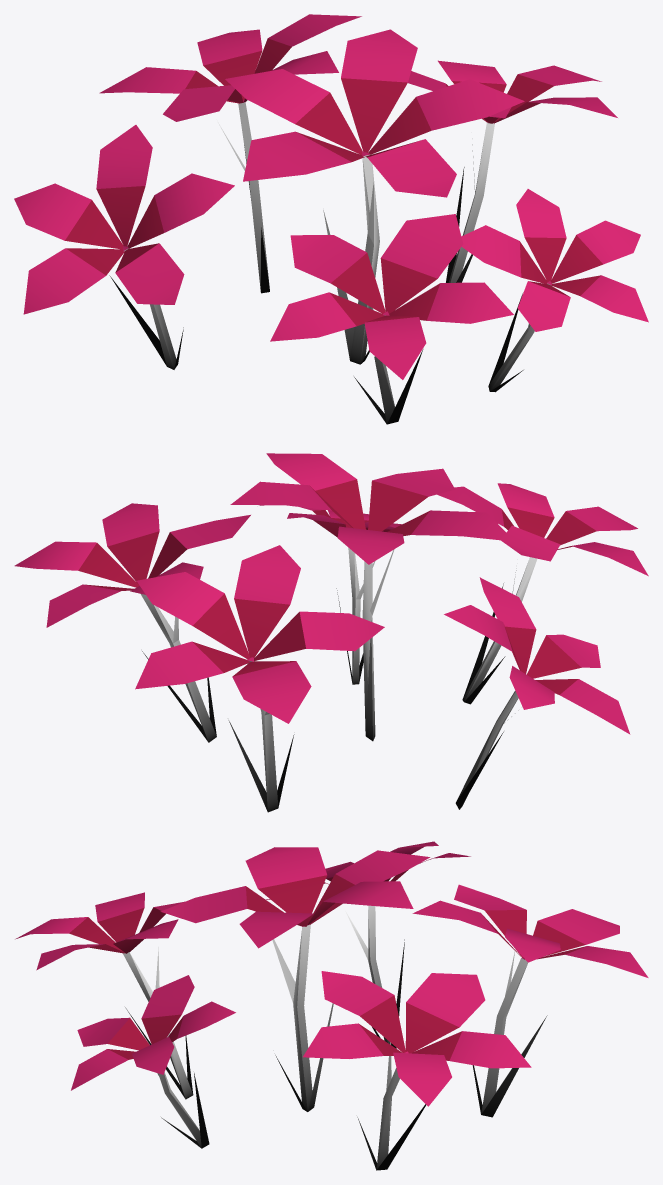
File: Sm_Plumeria_1.FBX
3 renders of one model, top to bottom at view 1: azimuth 30°, elevation 25°; view 2: azimuth 150°, elevation 25°; view 3: azimuth 270°, elevation 25°, orthographic. The views are drawn at different scales.
Visible parts, largest first — view 1: Sm_Plumeria_1; view 2: Sm_Plumeria_1; view 3: Sm_Plumeria_1.
Part boxes in pixels (x1=…): Sm_Plumeria_1: x1=14, y1=14, x2=648, y2=424; Sm_Plumeria_1: x1=14, y1=453, x2=648, y2=812; Sm_Plumeria_1: x1=15, y1=841, x2=648, y2=1170.
Size of the model in its own units: 91.55 by 91 by 39.75.
